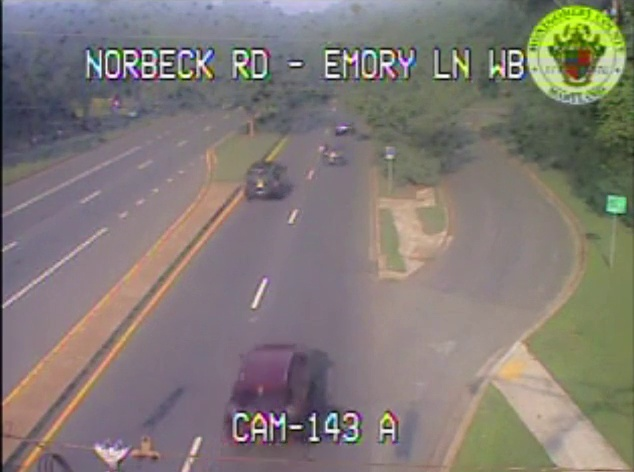car: (227, 348, 306, 444), (246, 164, 285, 201)
